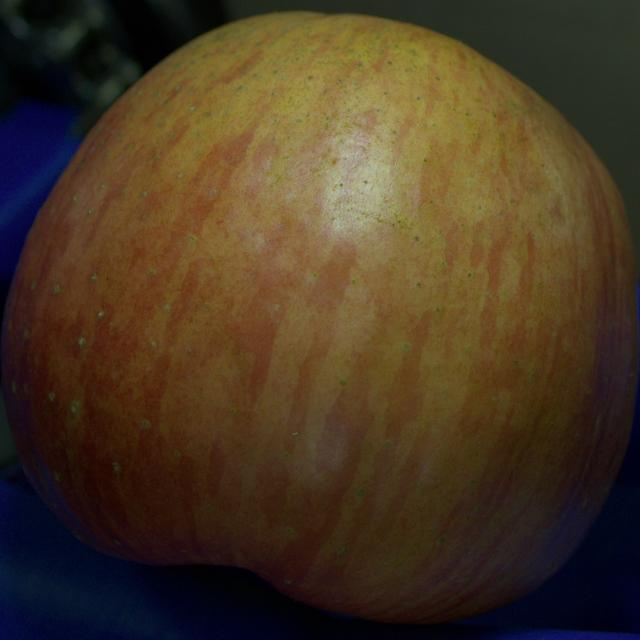apple: (1, 14, 638, 622)
